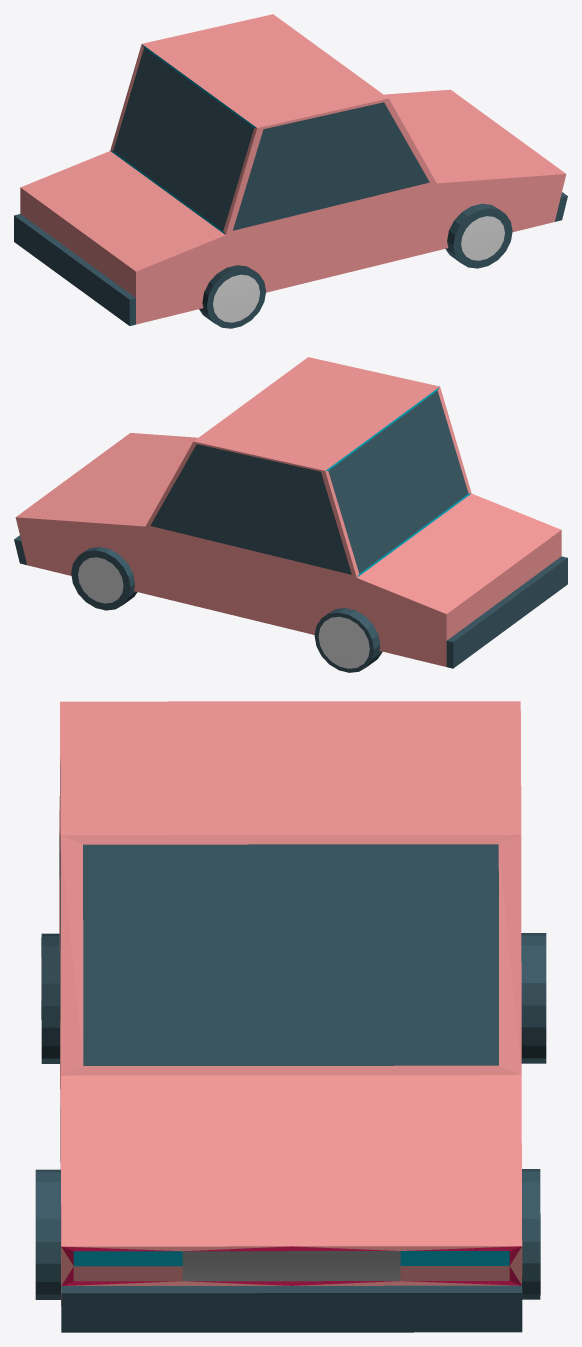
Rendered from car_4_4.dae.
The picture shows the model from 3 angles, top to bottom: view 1: azimuth 30°, elevation 25°; view 2: azimuth 150°, elevation 25°; view 3: azimuth 270°, elevation 25°; orthographic projection. The views are drawn at different scales.
Visible parts, largest first — view 1: Car_04.001; view 2: Car_04.001; view 3: Car_04.001.
Boxes of the visible parts, x1,y1,x2,y2 form: Car_04.001: [14, 14, 567, 328]; Car_04.001: [14, 357, 567, 672]; Car_04.001: [35, 701, 546, 1332].
Size of the model in its own units: 4.42 by 2.23 by 1.83.
Materials: 1 (1 with a texture image).
